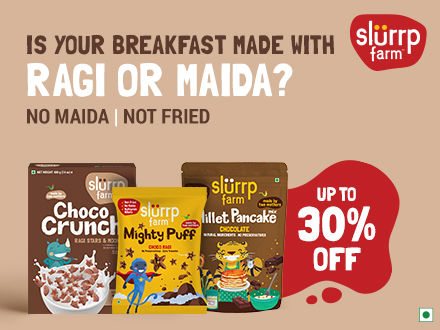veg: (419, 310, 437, 324)
